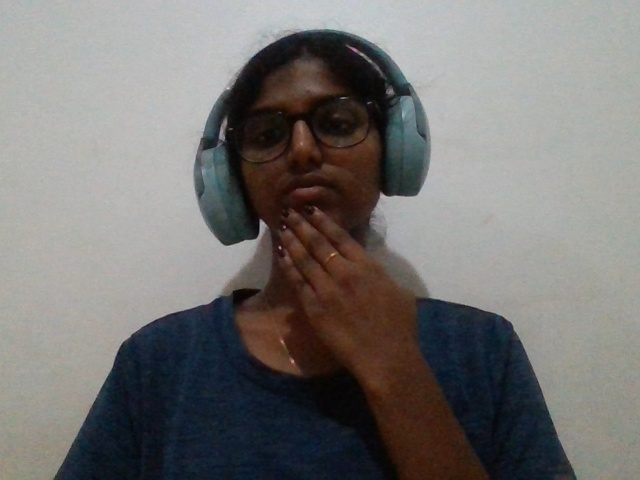Thanks: (246, 171, 463, 432)
